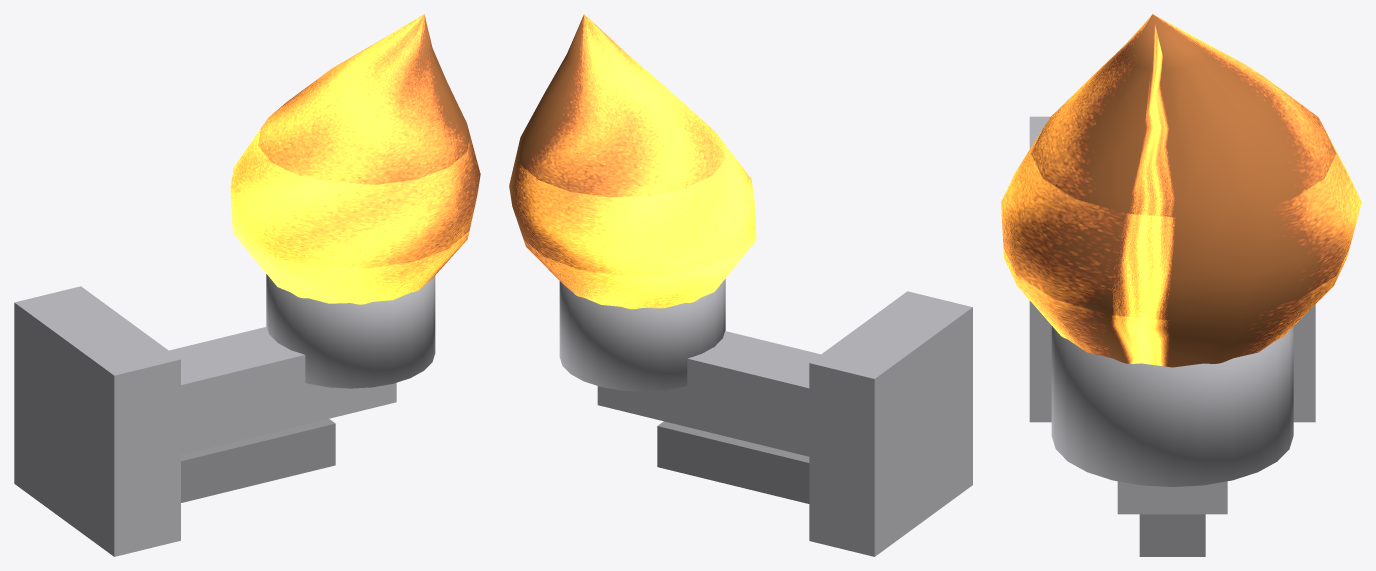
The model's file is torch.glb.
The picture shows the model from 3 angles, left to right: view 1: azimuth 30°, elevation 25°; view 2: azimuth 150°, elevation 25°; view 3: azimuth 270°, elevation 25°; orthographic projection. The views are drawn at different scales.
Parts seen in each view (by area): view 1: Cube; view 2: Cube; view 3: Cube.
Part boxes in pixels (bbox=[...]): Cube: bbox=[14, 14, 480, 556]; Cube: bbox=[509, 14, 972, 556]; Cube: bbox=[1001, 14, 1361, 556].
Bounding box in the file's own units: 0.3029 × 0.305 × 0.164.
